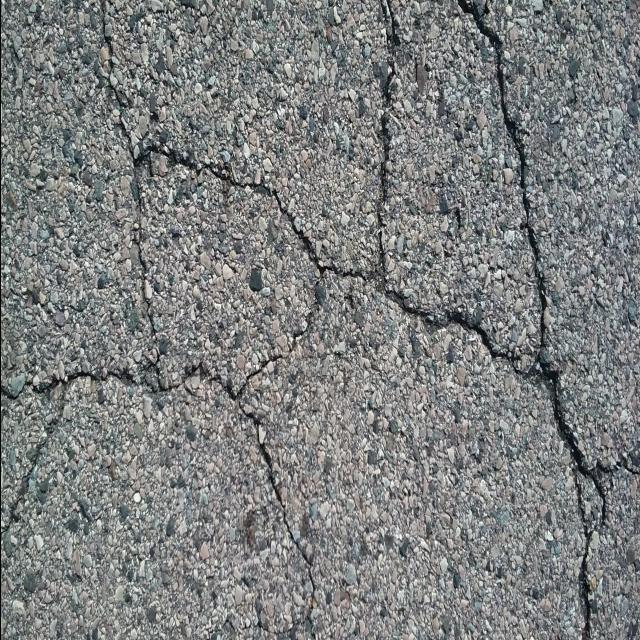Crack: (95, 0, 640, 640), (0, 169, 321, 640)
